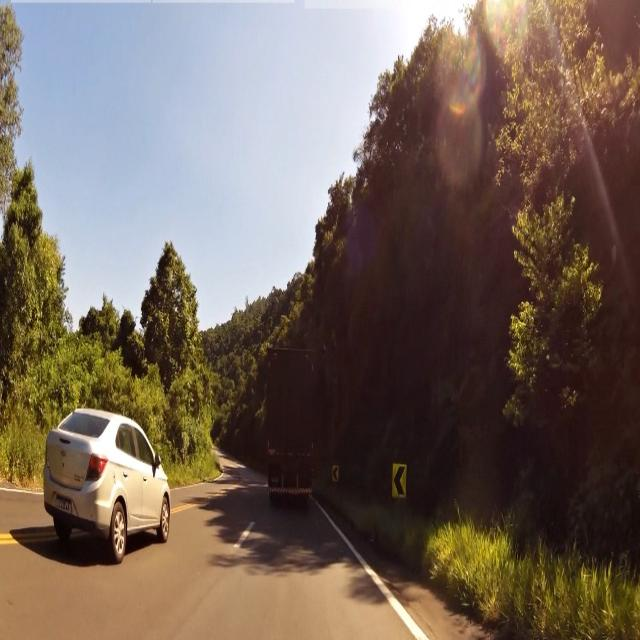Del: (392, 460, 407, 501)
